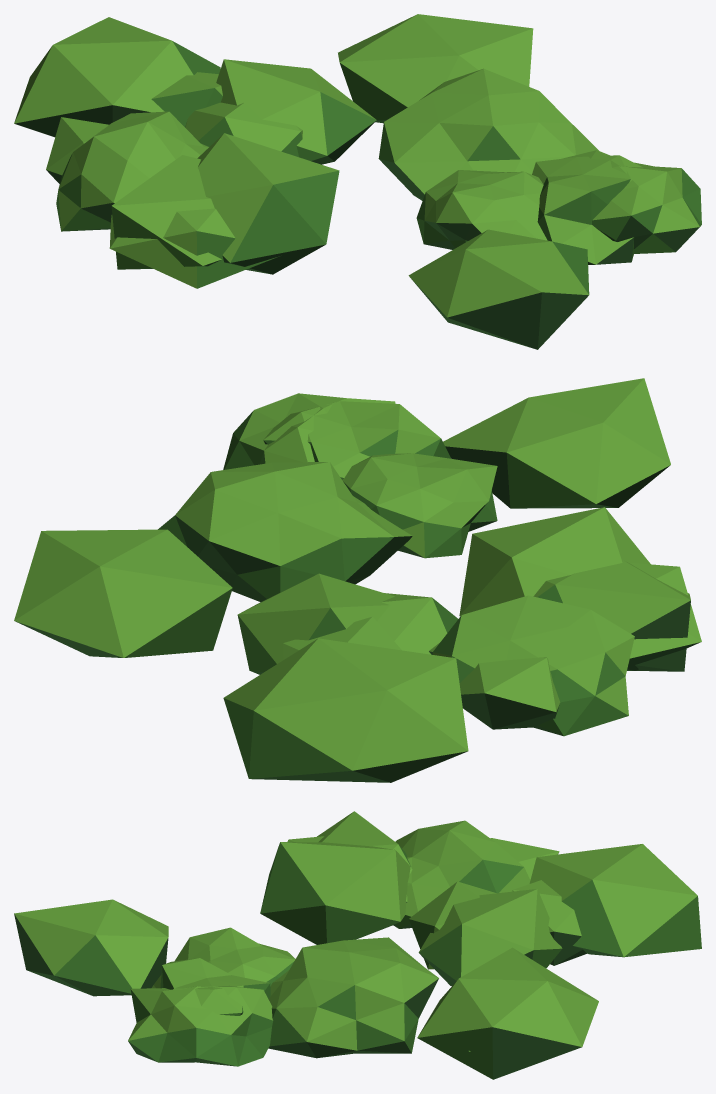
File: F11_GroundCreeperPatch.glb
3 renders of one model, top to bottom at view 1: azimuth 30°, elevation 25°; view 2: azimuth 150°, elevation 25°; view 3: azimuth 270°, elevation 25°, orthographic. The views are drawn at different scales.
Visible parts, largest first — view 1: F11_GroundCreeperPatch; view 2: F11_GroundCreeperPatch; view 3: F11_GroundCreeperPatch.
Part boxes in pixels (bbox=[...]): F11_GroundCreeperPatch: bbox=[14, 14, 701, 349]; F11_GroundCreeperPatch: bbox=[14, 378, 701, 782]; F11_GroundCreeperPatch: bbox=[14, 811, 701, 1079].
Bounding box in the file's own units: 1.84 × 0.3141 × 2.48.
